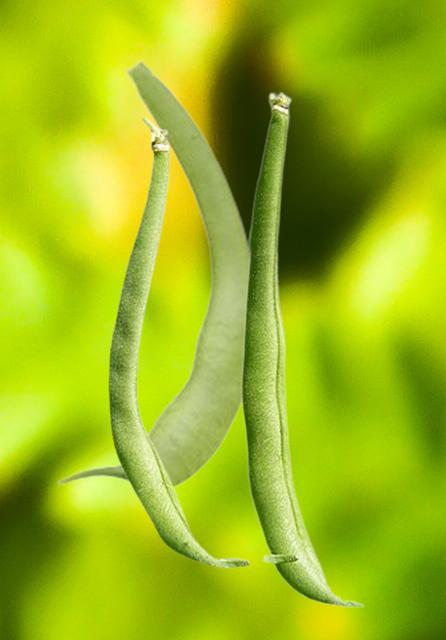french_bean: (55, 57, 248, 490), (240, 91, 365, 607), (108, 116, 250, 568)
